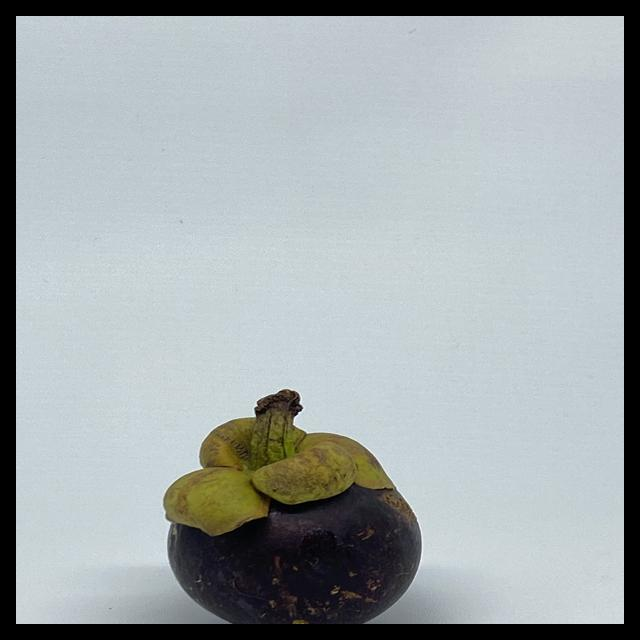mangosteen: (151, 398, 444, 624)
